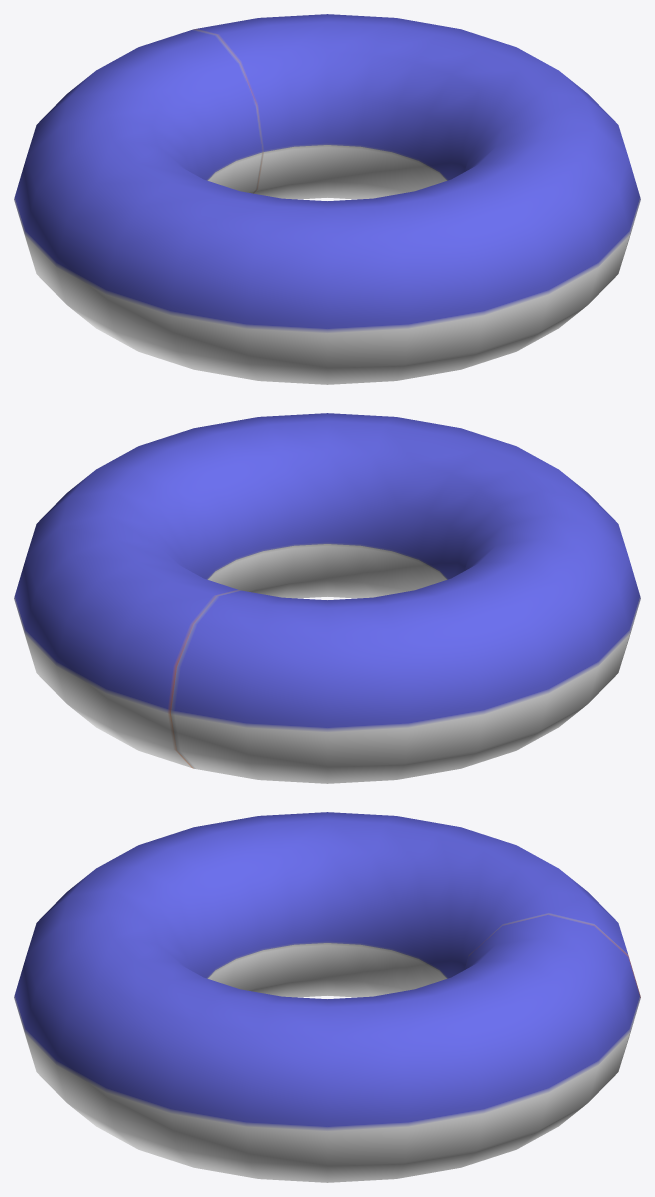
3 views of the same model, one above another, from view 1: azimuth 30°, elevation 25°; view 2: azimuth 150°, elevation 25°; view 3: azimuth 270°, elevation 25° (orthographic).
Visible parts, largest first — view 1: FLOAT_DEFAULT; view 2: FLOAT_DEFAULT; view 3: FLOAT_DEFAULT.
Part boxes in pixels (box(x1,y1,x2,y2)): FLOAT_DEFAULT: box(14, 14, 640, 384); FLOAT_DEFAULT: box(14, 413, 640, 783); FLOAT_DEFAULT: box(14, 812, 640, 1182).
Size of the model in its own units: 170 by 50 by 170.
